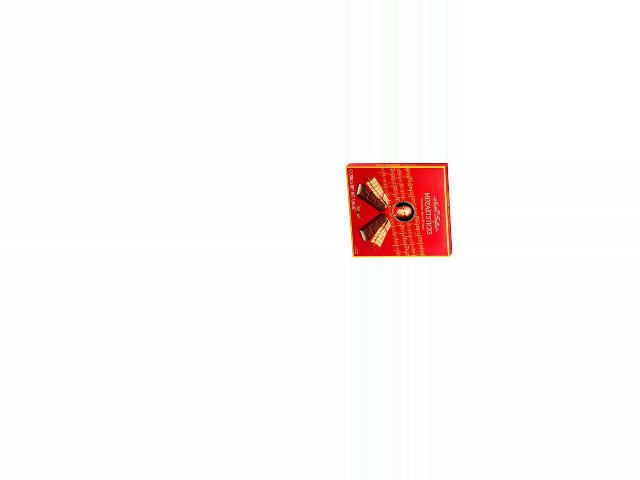chocolate: (343, 162, 450, 259)
